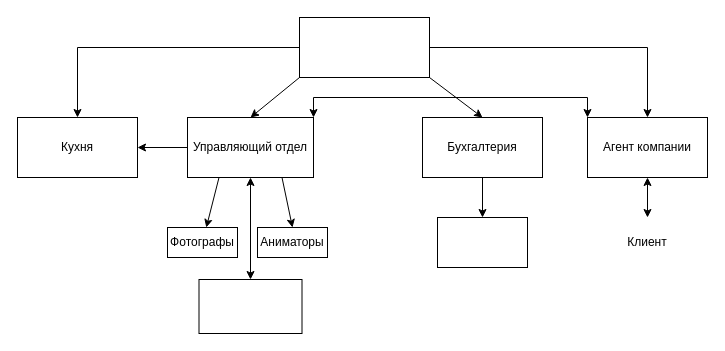
Image size: 725x351. Some labels were removed from this diagram. Here are the shapes that lost their labels. From the top down, the box of each, then its label:
(298, 16, 430, 78): Директор
(436, 216, 528, 268): Отдел кадров
(198, 278, 302, 334): Аренда места проведения
